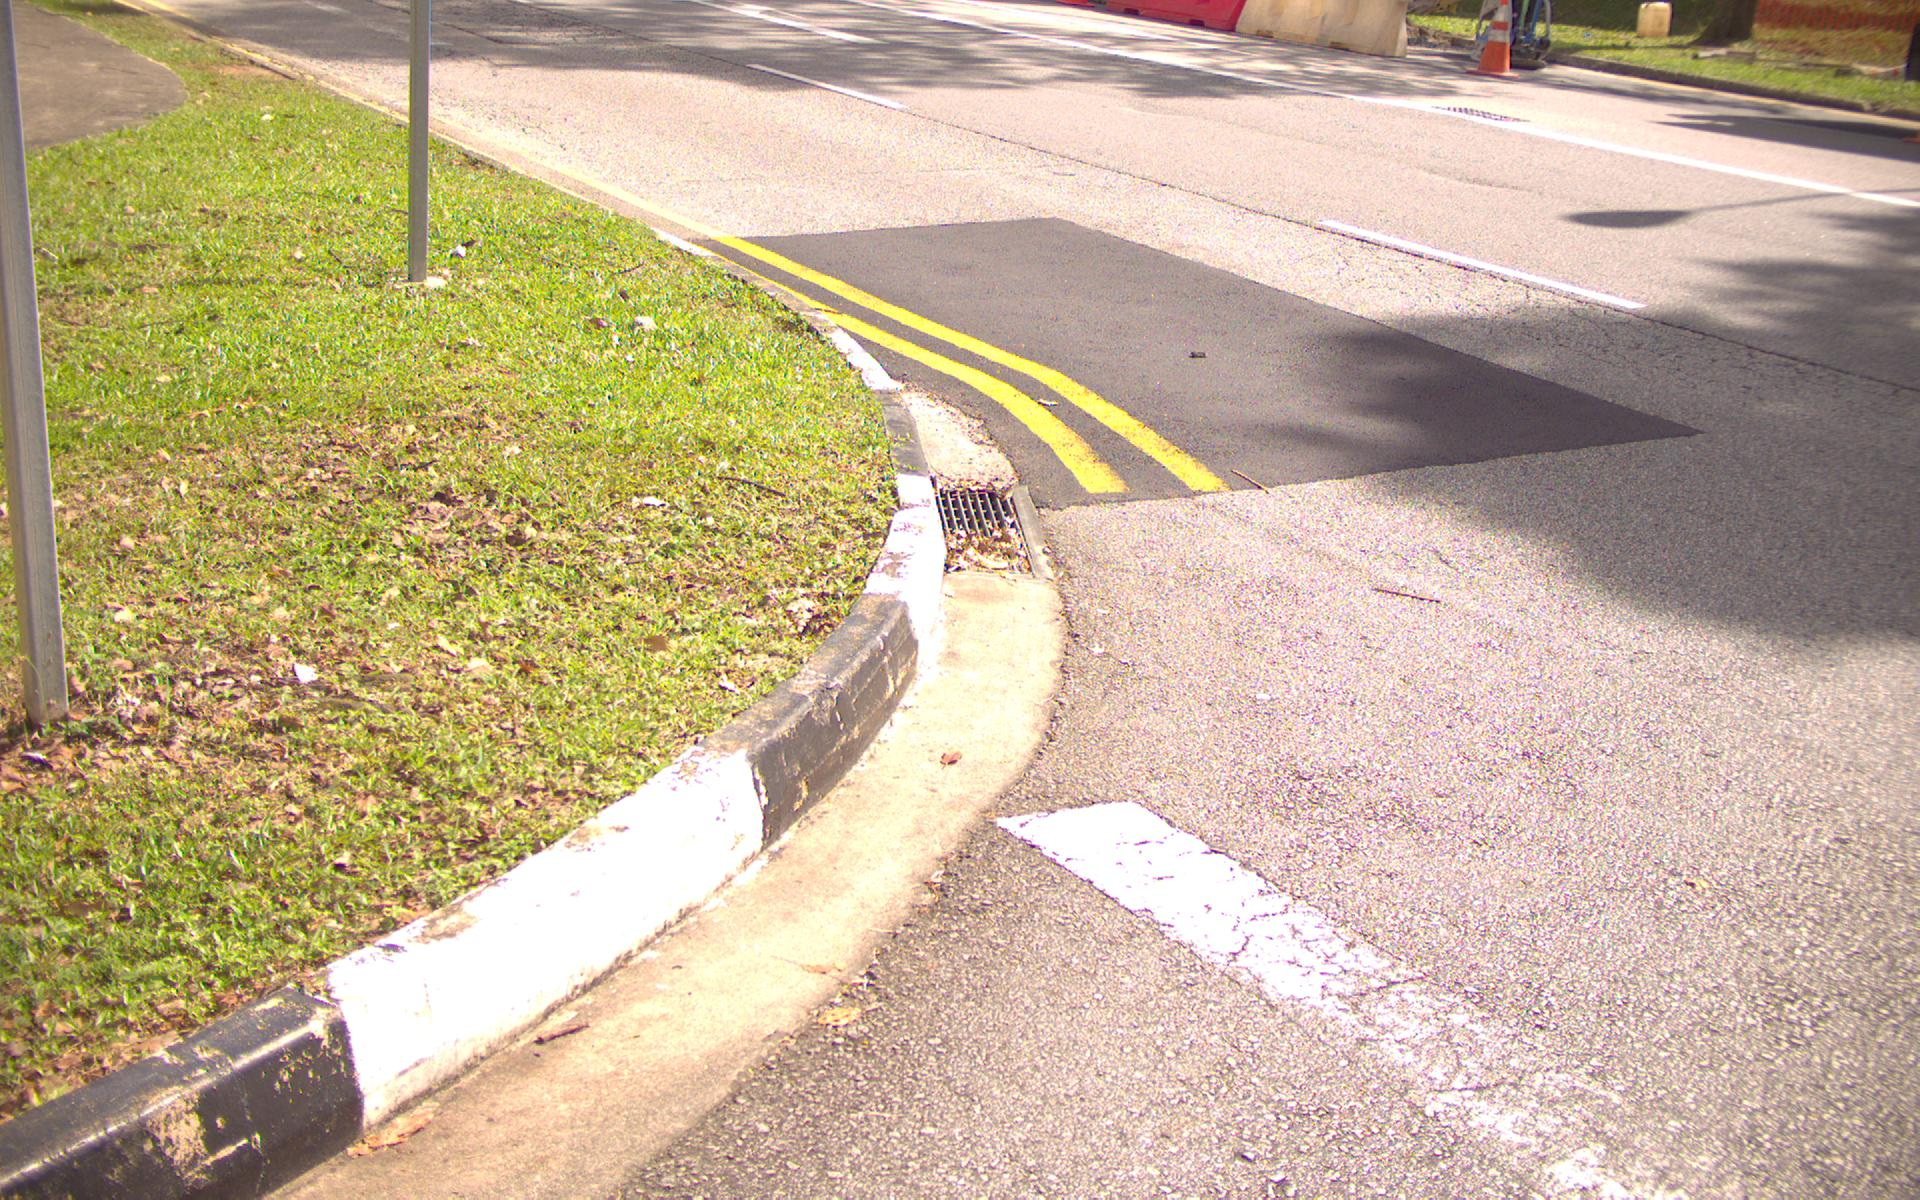curb_dic_medium: (950, 477, 1041, 597)
road_turf_low: (57, 184, 563, 825)
